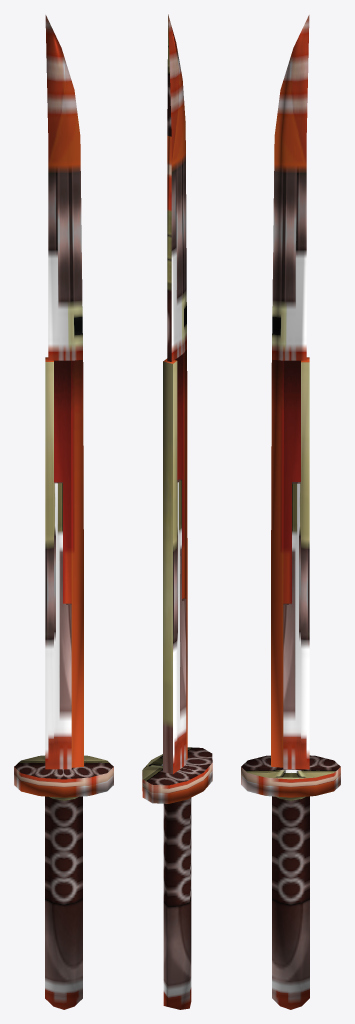
The model's file is bladebrandier17.obj.
3 renders of one model, left to right at view 1: azimuth 90°, elevation 25°; view 2: azimuth 150°, elevation 25°; view 3: azimuth 270°, elevation 25°, orthographic.
Visible parts, largest first — view 1: MDL_w21kt17_bod00; view 2: MDL_w21kt17_bod00; view 3: MDL_w21kt17_bod00.
Part boxes in pixels (<box>): MDL_w21kt17_bod00: <box>14,15,113,1009</box>; MDL_w21kt17_bod00: <box>142,14,212,1009</box>; MDL_w21kt17_bod00: <box>241,15,340,1009</box>.
Bounding box in the file's own units: 0.0806 × 1.47 × 0.1341.
